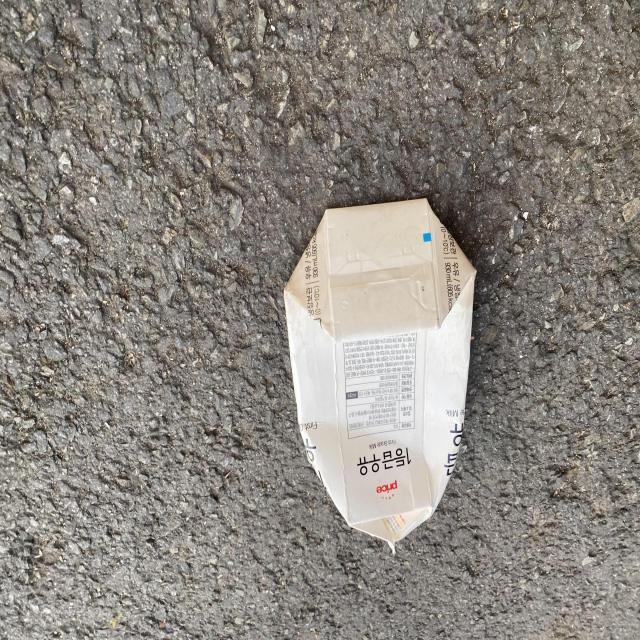paperpack: (284, 198, 476, 552)
